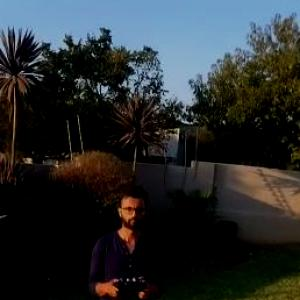follow: (84, 181, 167, 299)
